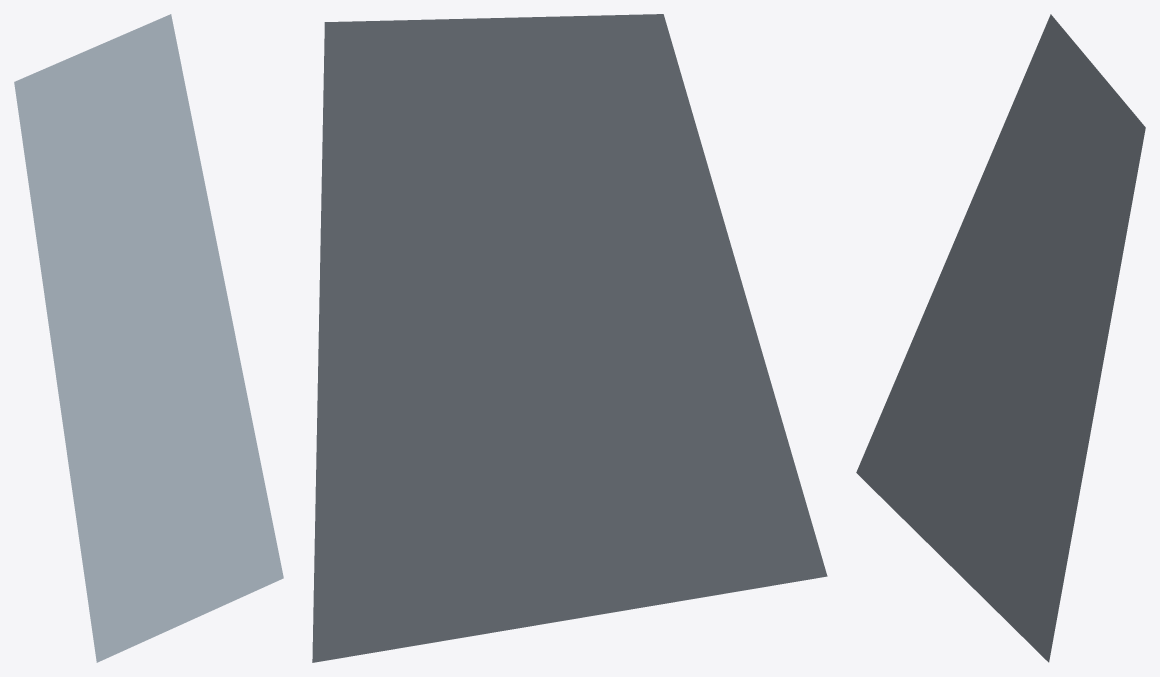
File: quadrate-ligament-r.glb
3 renders of one model, left to right at view 1: azimuth 30°, elevation 25°; view 2: azimuth 150°, elevation 25°; view 3: azimuth 270°, elevation 25°, orthographic. The views are drawn at different scales.
Parts seen in each view (by area): view 1: Quadrate ligament.r; view 2: Quadrate ligament.r; view 3: Quadrate ligament.r.
Part boxes in pixels (x1,y1,x2,y2): Quadrate ligament.r: [14, 14, 283, 662]; Quadrate ligament.r: [312, 14, 827, 662]; Quadrate ligament.r: [856, 14, 1145, 662].
Size of the model in its own units: 0.00511 by 0.00945 by 0.00472.
